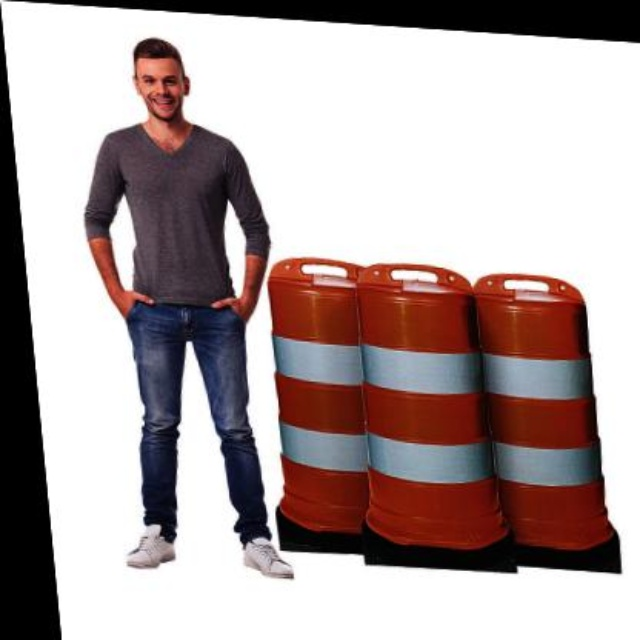obstacle: (344, 242, 504, 553), (472, 263, 605, 541)
